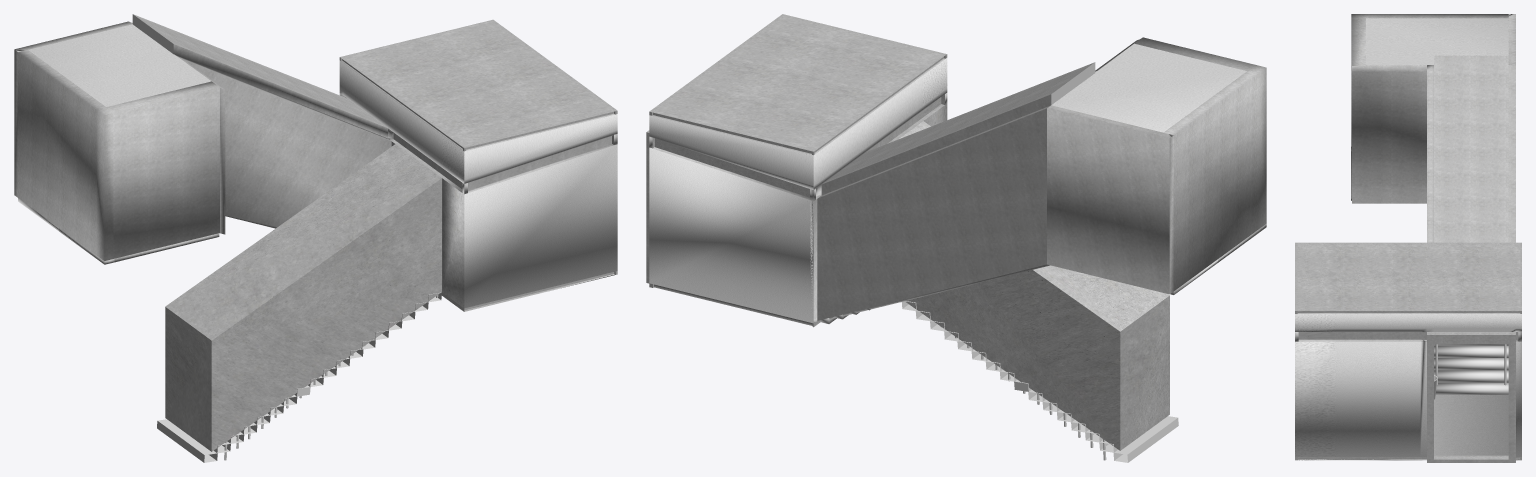
File: padik.fbx
3 views of the same model, side by side, from view 1: azimuth 30°, elevation 25°; view 2: azimuth 150°, elevation 25°; view 3: azimuth 270°, elevation 25° (orthographic). The views are drawn at different scales.
Visible parts, largest first — view 1: Plane.001; view 2: Plane.001; view 3: Plane.001.
Part boxes in pixels (x1,y1,x2,y2): Plane.001: [14, 14, 617, 462]; Plane.001: [646, 14, 1266, 462]; Plane.001: [1295, 14, 1521, 462].
Size of the model in its own units: 819 by 605 by 361.
